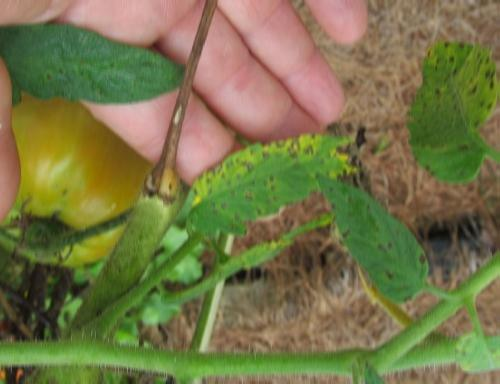Tomato Septoria leaf spot: (182, 128, 361, 237), (1, 23, 184, 108), (310, 170, 426, 300), (408, 39, 493, 186)
